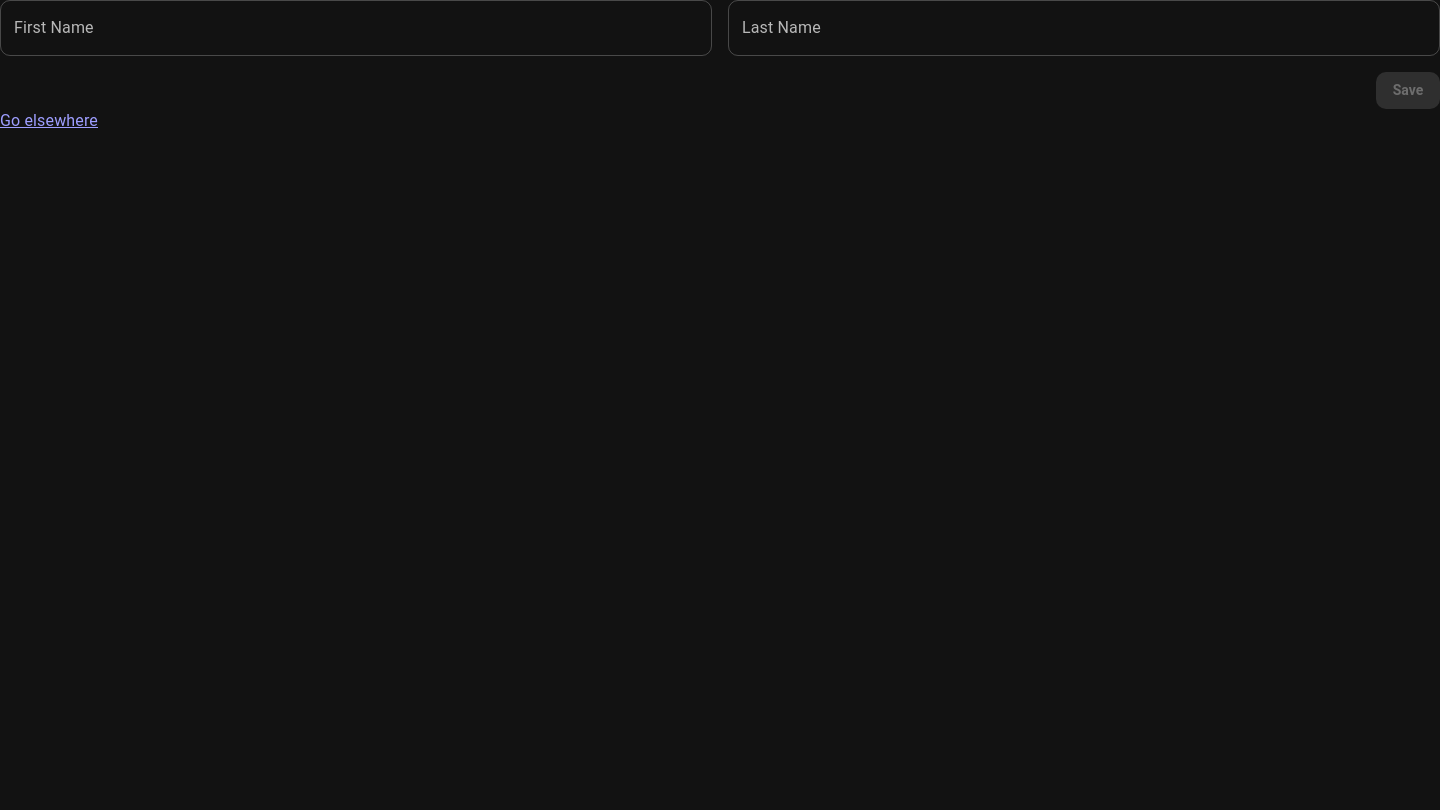
OasisForm › the unsaved-changes prompt (ISSUES #26) › blocks navigation and asks first when the form is dirty
This screenshot has width=1440, height=810.
Type "Amara" into the field labelled "First Name" at (356, 28), box x1=0 y1=0 x2=712 y2=56
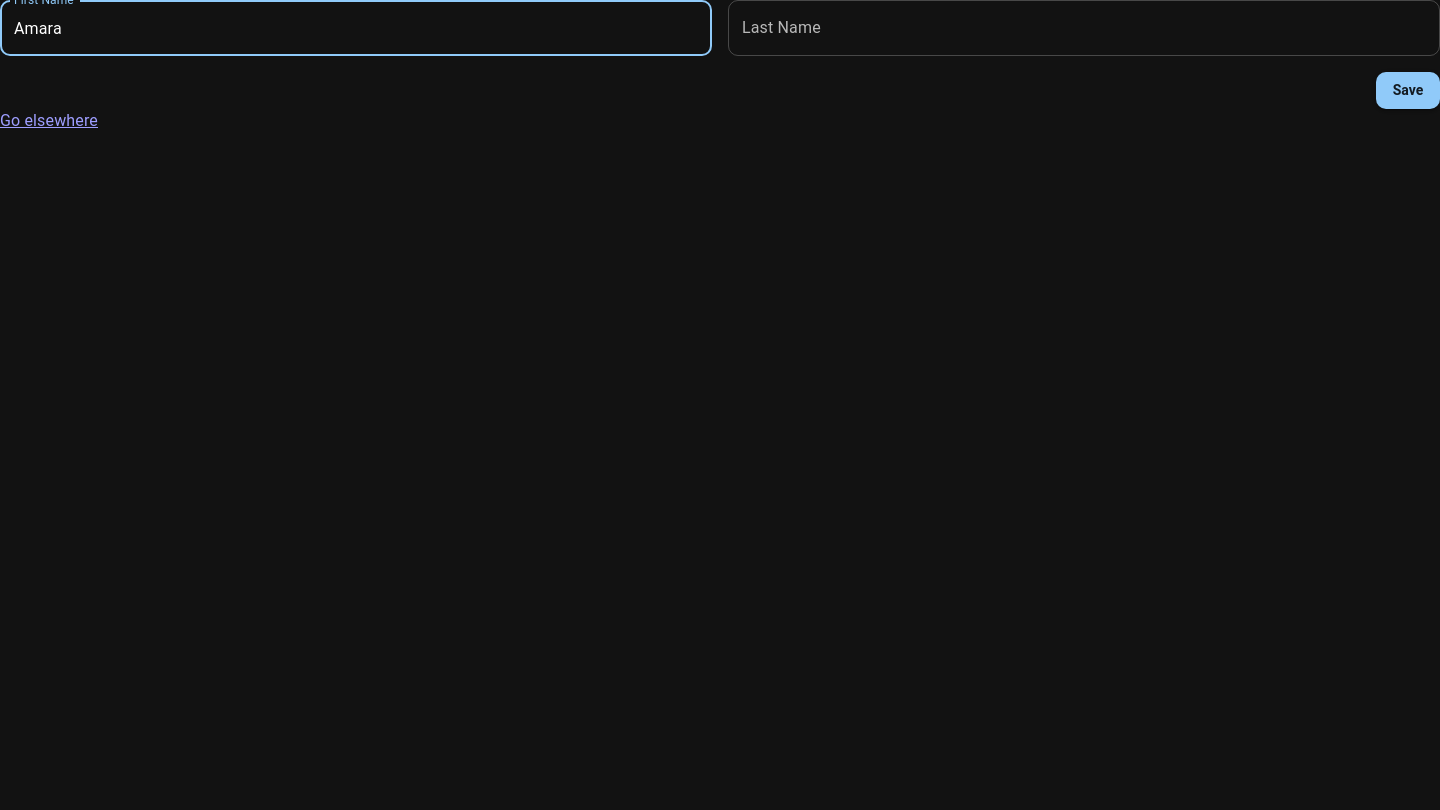
Click the link "Go elsewhere" at (49, 120), box x1=0 y1=110 x2=98 y2=130
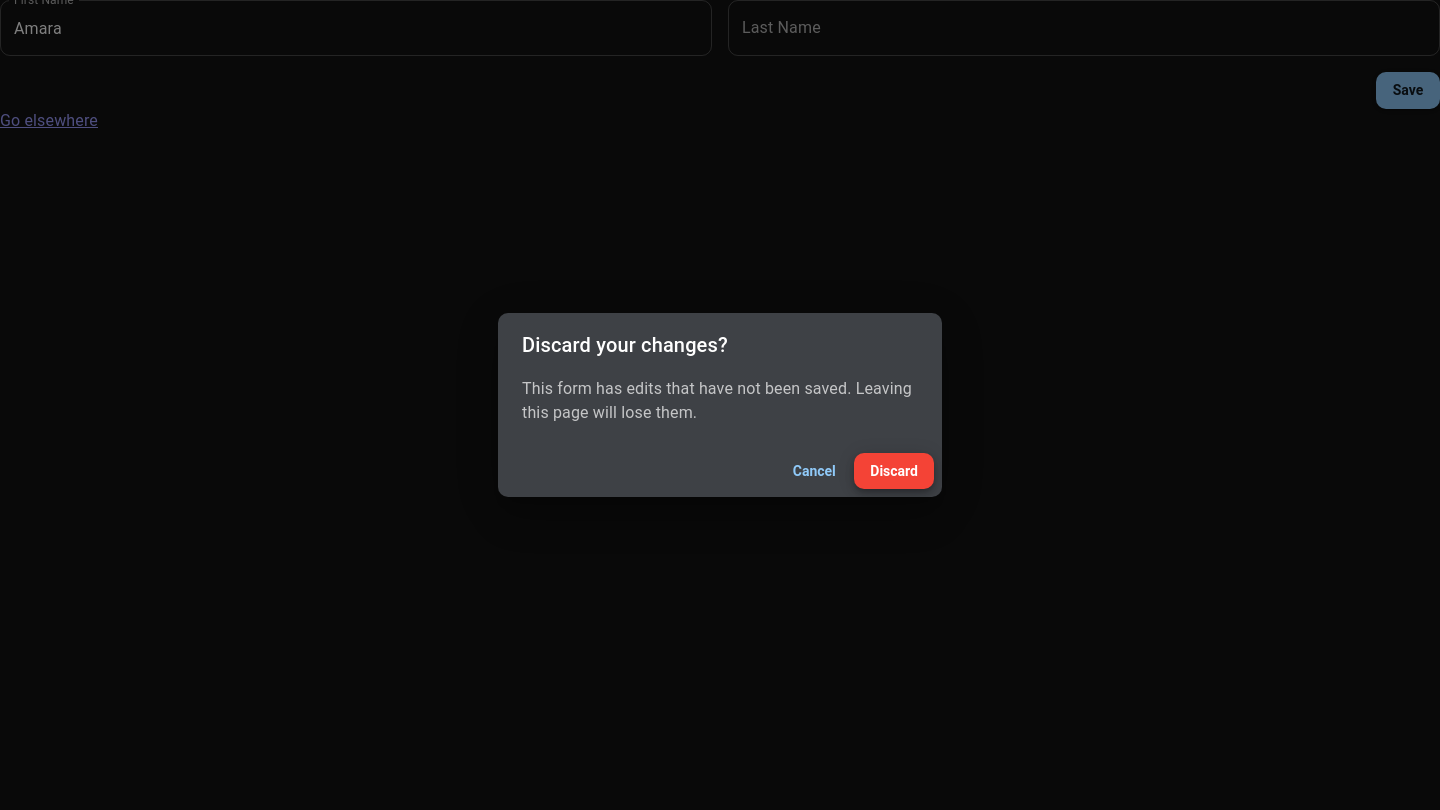
Expected: the heading "Discard your changes?" is shown, x1=522 y1=333 x2=728 y2=357
